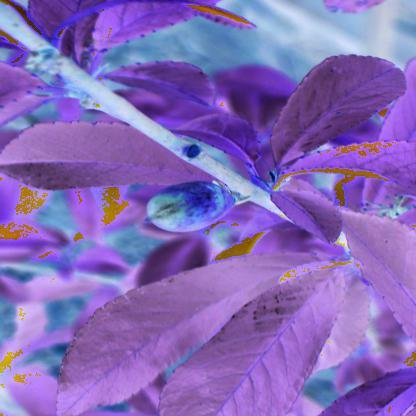Peach leaf: (52, 247, 330, 416), (159, 268, 347, 416), (263, 49, 412, 176), (6, 123, 255, 198), (272, 141, 416, 185), (268, 186, 338, 246)
